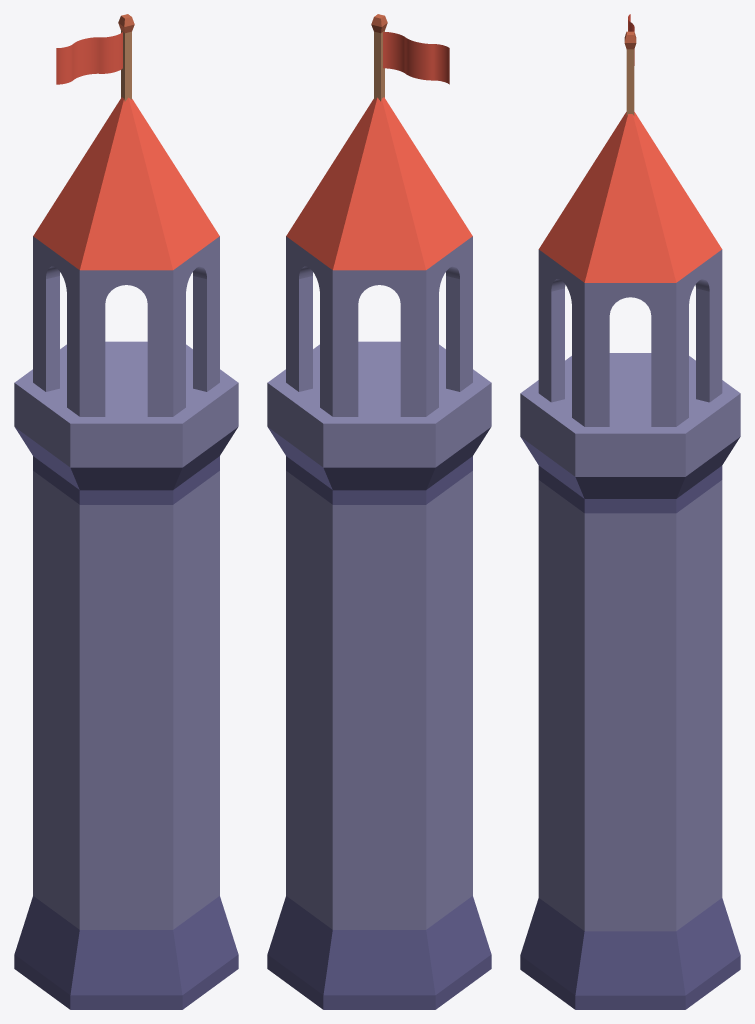
The model's file is tower2.glb.
3 renders of one model, left to right at view 1: azimuth 30°, elevation 25°; view 2: azimuth 150°, elevation 25°; view 3: azimuth 270°, elevation 25°, orthographic.
Visible parts, largest first — view 1: hexagon (×2), hexagon_overhang, hexagon_base, hexagon_arches, hexagon_point, flag_square; view 2: hexagon (×2), hexagon_overhang, hexagon_base, hexagon_arches, hexagon_point, flag_square; view 3: hexagon (×2), hexagon_overhang, hexagon_base, hexagon_arches, hexagon_point, flag_square.
Boxes of the visible parts, x1=… form: hexagon (×2): x1=33, y1=529, x2=219, y2=856; hexagon_overhang: x1=14, y1=341, x2=238, y2=563; hexagon_base: x1=14, y1=822, x2=238, y2=1009; hexagon_arches: x1=33, y1=236, x2=219, y2=416; hexagon_point: x1=33, y1=97, x2=219, y2=270; flag_square: x1=56, y1=14, x2=134, y2=101; hexagon (×2): x1=286, y1=529, x2=472, y2=856; hexagon_overhang: x1=267, y1=341, x2=491, y2=563; hexagon_base: x1=267, y1=822, x2=491, y2=1009; hexagon_arches: x1=286, y1=236, x2=472, y2=416; hexagon_point: x1=286, y1=97, x2=472, y2=270; flag_square: x1=371, y1=14, x2=449, y2=101; hexagon (×2): x1=538, y1=538, x2=722, y2=859; hexagon_overhang: x1=520, y1=353, x2=740, y2=570; hexagon_base: x1=520, y1=826, x2=740, y2=1009; hexagon_arches: x1=538, y1=249, x2=722, y2=426; hexagon_point: x1=539, y1=112, x2=721, y2=282; flag_square: x1=624, y1=14, x2=636, y2=115.
Size of the model in its own units: 1.2 by 6.5 by 1.39.
